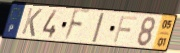4: (41, 8, 58, 39)
8: (136, 16, 157, 47)
F: (62, 8, 92, 43), (112, 15, 139, 45)
I: (90, 12, 106, 44)
K: (20, 7, 44, 38)
